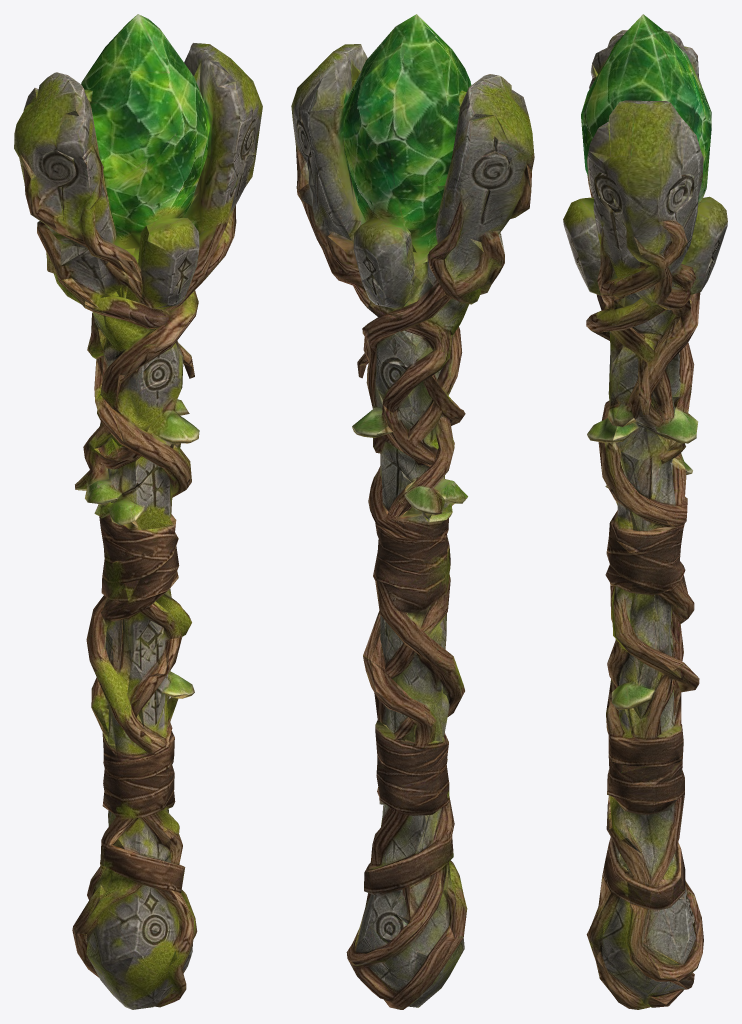
Rendered from staff-earth.glb.
3 renders of one model, left to right at view 1: azimuth 30°, elevation 25°; view 2: azimuth 150°, elevation 25°; view 3: azimuth 270°, elevation 25°, orthographic.
Bounding box in the file's own units: 0.4975 × 2 × 0.3026.
Materials: 1 (1 with a texture image).
